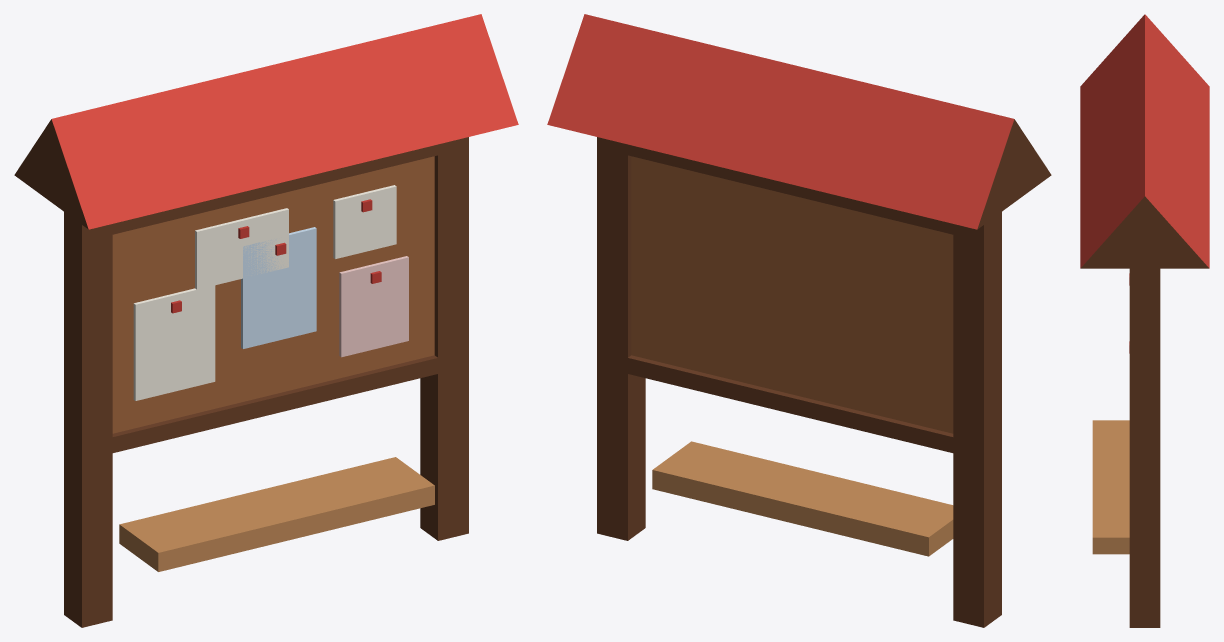
Rendered from a-notice-board.glb.
3 renders of one model, left to right at view 1: azimuth 30°, elevation 25°; view 2: azimuth 150°, elevation 25°; view 3: azimuth 270°, elevation 25°, orthographic. The views are drawn at different scales.
Visible parts, largest first — view 1: a-notice-board; view 2: a-notice-board; view 3: a-notice-board.
Boxes of the visible parts, left/top/right/bottom form: a-notice-board: left=14, top=14, right=518, bottom=627; a-notice-board: left=547, top=14, right=1051, bottom=627; a-notice-board: left=1080, top=14, right=1209, bottom=627.
Size of the model in its own units: 1.4 by 1.58 by 0.42.
